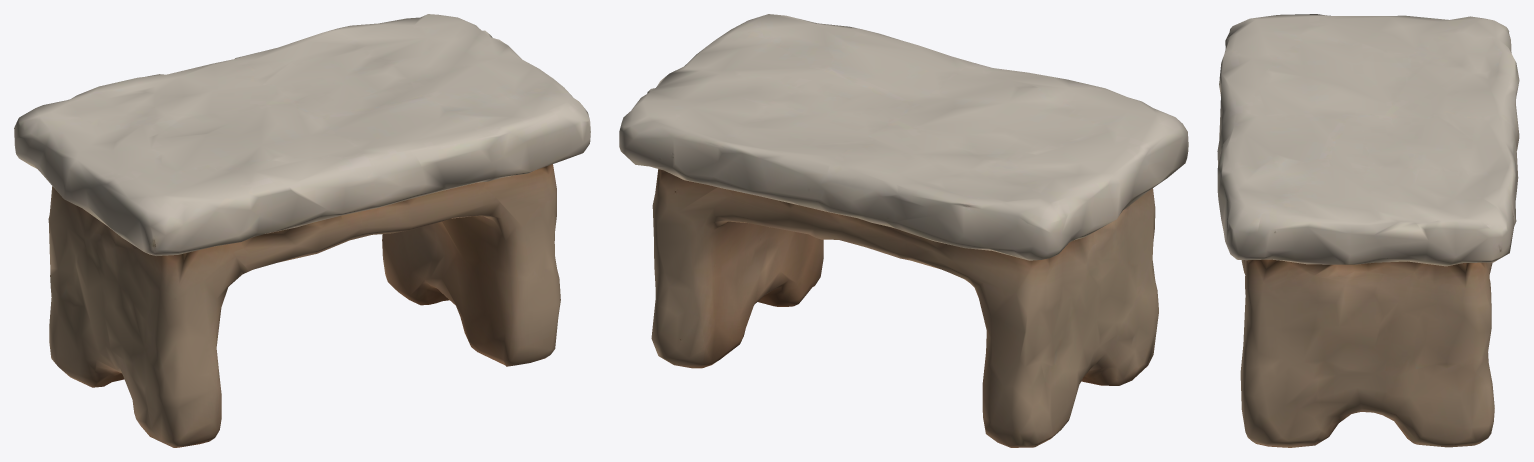
File: desk-tripo-12k.glb
The picture shows the model from 3 angles, left to right: view 1: azimuth 30°, elevation 25°; view 2: azimuth 150°, elevation 25°; view 3: azimuth 270°, elevation 25°; orthographic projection. The views are drawn at different scales.
Visible parts, largest first — view 1: tripo_node_edfaa977-25b2-4aca-8fba-bea85e0cce07; view 2: tripo_node_edfaa977-25b2-4aca-8fba-bea85e0cce07; view 3: tripo_node_edfaa977-25b2-4aca-8fba-bea85e0cce07.
Part boxes in pixels (left/top/right/bottom): tripo_node_edfaa977-25b2-4aca-8fba-bea85e0cce07: left=14, top=14, right=590, bottom=447; tripo_node_edfaa977-25b2-4aca-8fba-bea85e0cce07: left=619, top=14, right=1188, bottom=447; tripo_node_edfaa977-25b2-4aca-8fba-bea85e0cce07: left=1217, top=14, right=1519, bottom=447.
Size of the model in its own units: 0.9997 by 0.5523 by 0.6001.
1 material, 1 textured.
